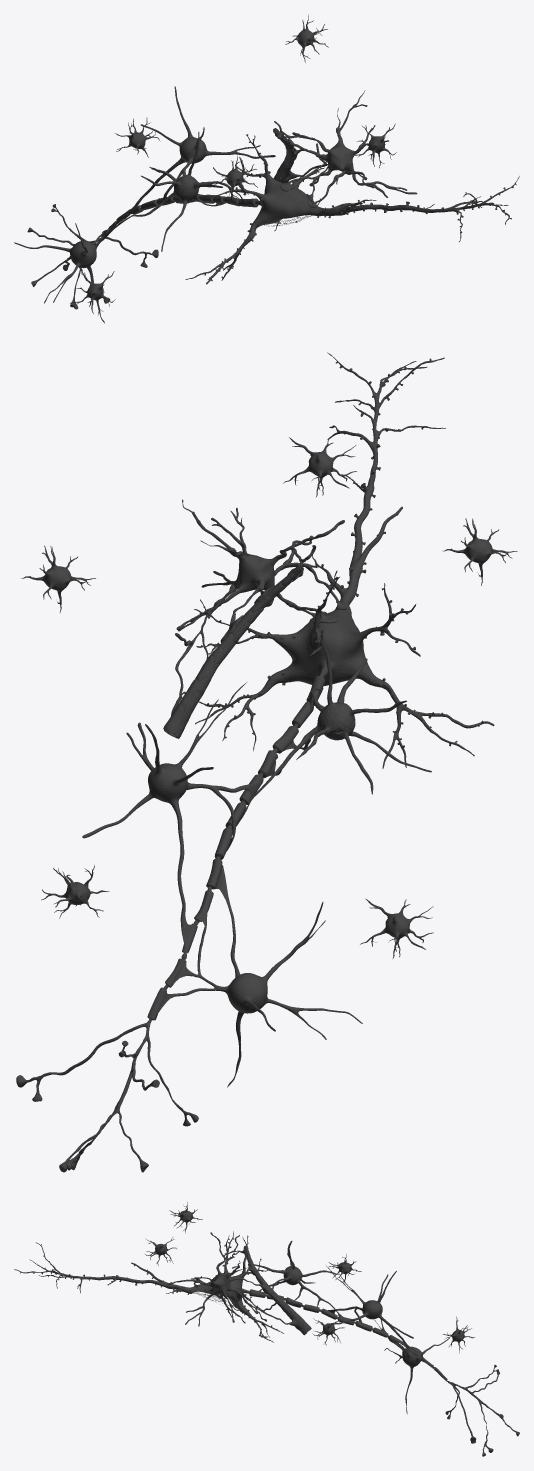
File: sharedassets82.glb
3 views of the same model, one above another, from view 1: azimuth 30°, elevation 25°; view 2: azimuth 150°, elevation 25°; view 3: azimuth 270°, elevation 25° (orthographic). The views are drawn at different scales.
Visible parts, largest first — view 1: 0008_Oligodendrocytes__303797, 0014_Astrocyte__303798, 0000_Microglia__303799, 0005_Cell body _soma___303811, 0001_Apical dendrite__303821, 0026_Basal dendrites__303822, 0015_Myelin sheaths__303817, 0006_Axon__303819, 0025_Capillary__303795; view 2: 0008_Oligodendrocytes__303797, 0000_Microglia__303799, 0014_Astrocyte__303798, 0005_Cell body _soma___303811, 0015_Myelin sheaths__303817, 0026_Basal dendrites__303822, 0001_Apical dendrite__303821, 0025_Capillary__303795, 0006_Axon__303819; view 3: 0008_Oligodendrocytes__303797, 0014_Astrocyte__303798, 0000_Microglia__303799, 0015_Myelin sheaths__303817, 0001_Apical dendrite__303821, 0026_Basal dendrites__303822, 0006_Axon__303819, 0025_Capillary__303795, 0005_Cell body _soma___303811.
Boxes of the visible parts, x1=… form: 0008_Oligodendrocytes__303797: x1=14, y1=86, x2=275, y2=323; 0014_Astrocyte__303798: x1=274, y1=90, x2=417, y2=207; 0000_Microglia__303799: x1=70, y1=14, x2=396, y2=315; 0005_Cell body _soma___303811: x1=254, y1=176, x2=326, y2=227; 0001_Apical dendrite__303821: x1=322, y1=176, x2=519, y2=241; 0026_Basal dendrites__303822: x1=185, y1=134, x2=326, y2=284; 0015_Myelin sheaths__303817: x1=101, y1=194, x2=258, y2=236; 0006_Axon__303819: x1=33, y1=208, x2=152, y2=301; 0025_Capillary__303795: x1=273, y1=128, x2=294, y2=182; 0008_Oligodendrocytes__303797: x1=82, y1=638, x2=431, y2=1087; 0000_Microglia__303799: x1=21, y1=437, x2=517, y2=958; 0014_Astrocyte__303798: x1=171, y1=499, x2=347, y2=715; 0005_Cell body _soma___303811: x1=275, y1=597, x2=372, y2=685; 0015_Myelin sheaths__303817: x1=147, y1=675, x2=325, y2=1020; 0026_Basal dendrites__303822: x1=194, y1=570, x2=494, y2=768; 0001_Apical dendrite__303821: x1=312, y1=352, x2=445, y2=603; 0025_Capillary__303795: x1=163, y1=564, x2=303, y2=738; 0006_Axon__303819: x1=28, y1=1019, x2=191, y2=1162; 0008_Oligodendrocytes__303797: x1=254, y1=1241, x2=449, y2=1414; 0014_Astrocyte__303798: x1=167, y1=1232, x2=302, y2=1330; 0000_Microglia__303799: x1=145, y1=1202, x2=474, y2=1353; 0015_Myelin sheaths__303817: x1=249, y1=1289, x2=447, y2=1380; 0001_Apical dendrite__303821: x1=14, y1=1242, x2=188, y2=1293; 0026_Basal dendrites__303822: x1=208, y1=1231, x2=283, y2=1342; 0006_Axon__303819: x1=421, y1=1358, x2=515, y2=1448; 0025_Capillary__303795: x1=244, y1=1245, x2=311, y2=1335; 0005_Cell body _soma___303811: x1=187, y1=1273, x2=245, y2=1313.
Size of the model in its own units: 0.2633 by 0.3174 by 0.6001.
1 material, 1 textured.
